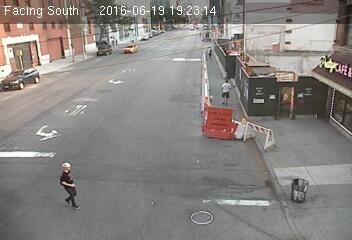neg: (135, 143, 154, 168), (284, 177, 301, 199), (86, 71, 102, 93), (174, 89, 189, 109), (140, 67, 153, 85), (326, 102, 339, 120), (195, 124, 207, 140), (134, 97, 145, 112)
pos: (48, 158, 86, 208), (215, 76, 237, 105), (204, 44, 216, 60)
